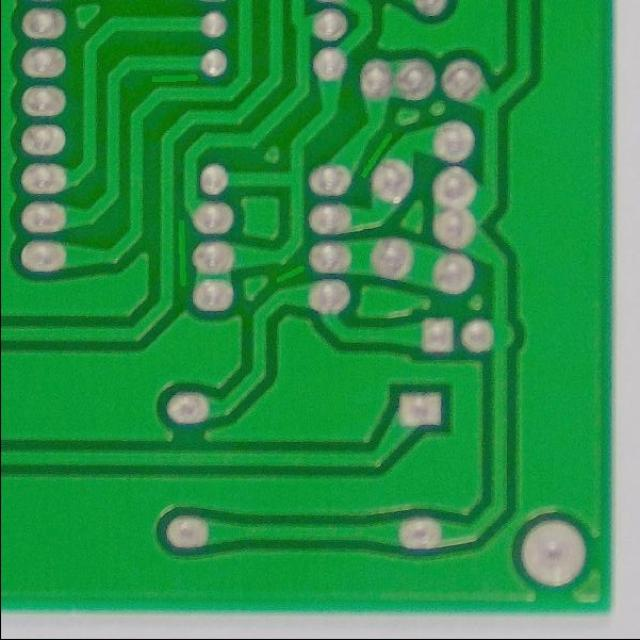Spurious_Cooper: (349, 125, 405, 185), (172, 214, 192, 290), (269, 258, 310, 288), (146, 68, 202, 85)
